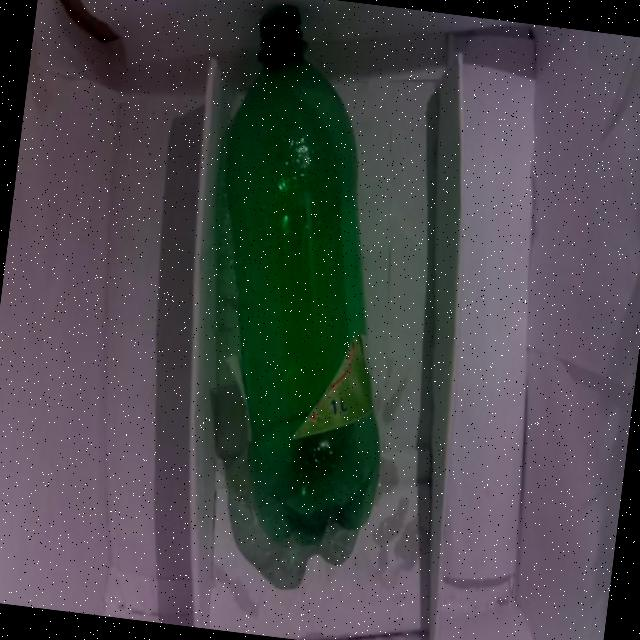bottle: (163, 0, 442, 555)
